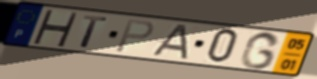0: (204, 27, 241, 67)
A: (147, 23, 190, 61)
G: (238, 31, 283, 71)
H: (30, 8, 80, 49)
P: (113, 18, 157, 54)
T: (78, 14, 110, 50)
